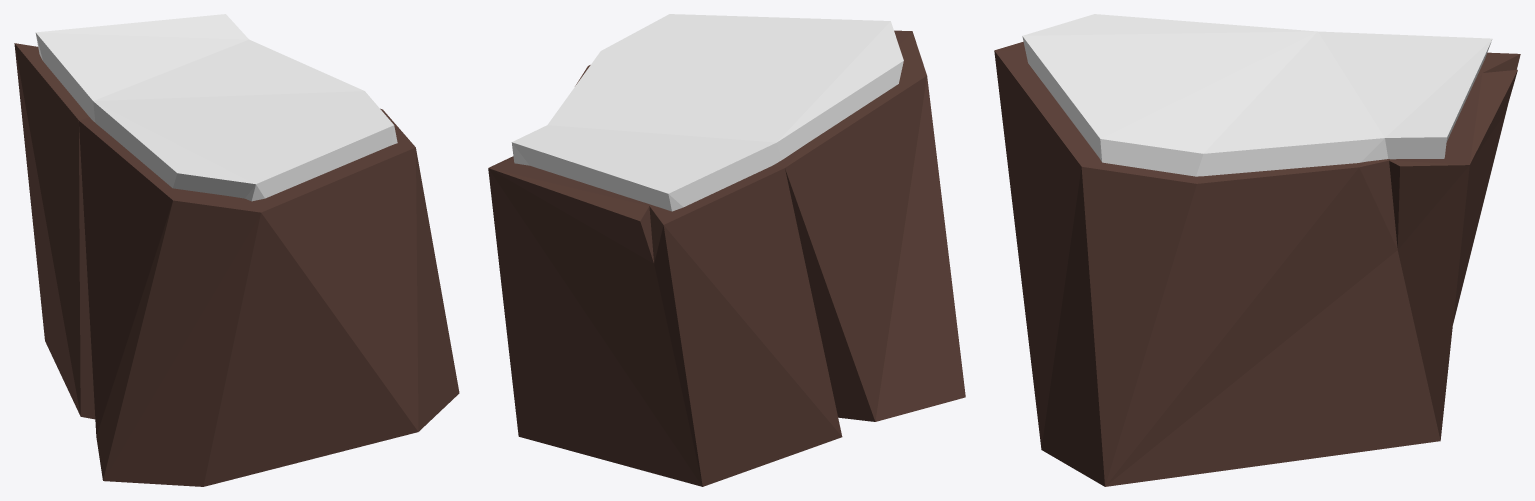
File: snow_rock_006.fbx
3 renders of one model, left to right at view 1: azimuth 30°, elevation 25°; view 2: azimuth 150°, elevation 25°; view 3: azimuth 270°, elevation 25°, orthographic. The views are drawn at different scales.
Parts seen in each view (by area): view 1: snow_rock_006; view 2: snow_rock_006; view 3: snow_rock_006.
Part boxes in pixels (x1,y1,x2,y2): snow_rock_006: [14, 14, 459, 486]; snow_rock_006: [488, 14, 965, 486]; snow_rock_006: [994, 14, 1520, 486].
Size of the model in its own units: 249 by 294 by 201.
